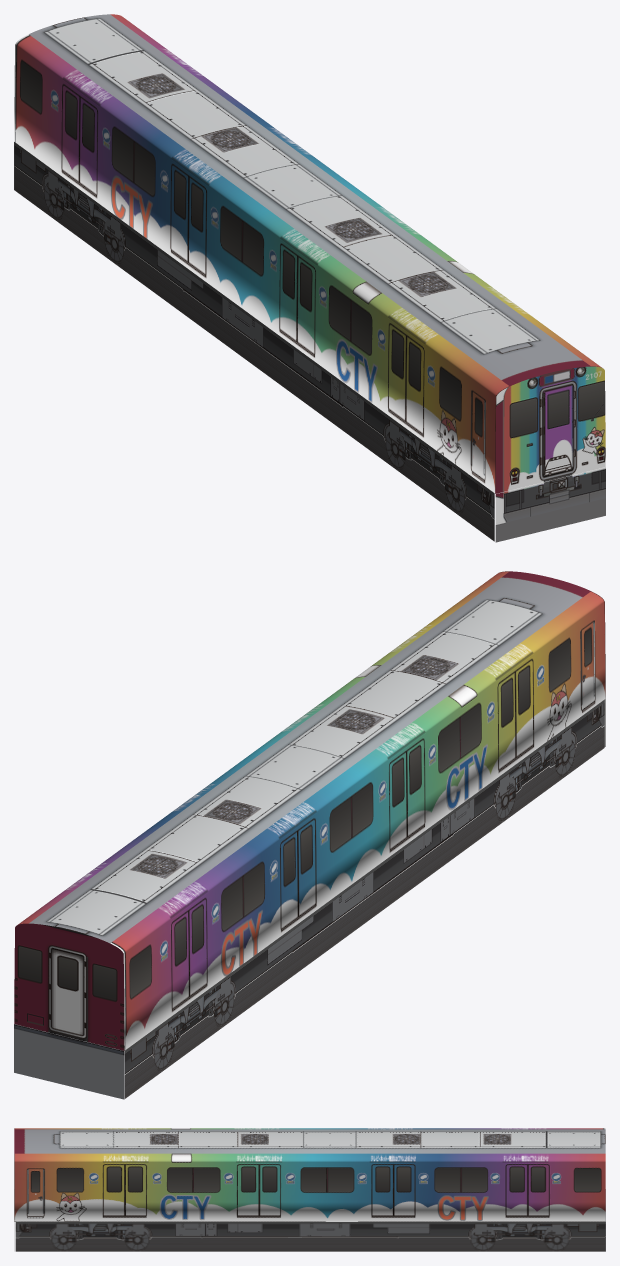
Rendered from car1.glb.
3 views of the same model, one above another, from view 1: azimuth 30°, elevation 25°; view 2: azimuth 150°, elevation 25°; view 3: azimuth 270°, elevation 25° (orthographic). The views are drawn at different scales.
Visible parts, largest first — view 1: kintetsu-2000-car1; view 2: kintetsu-2000-car1; view 3: kintetsu-2000-car1.
Boxes of the visible parts, x1,y1,x2,y2 form: kintetsu-2000-car1: (14, 14, 605, 542); kintetsu-2000-car1: (14, 571, 605, 1099); kintetsu-2000-car1: (14, 1128, 605, 1251).
Bounding box in the file's own units: 2.74 × 3.71 × 20.75.
Materials: 9 (8 with a texture image).
